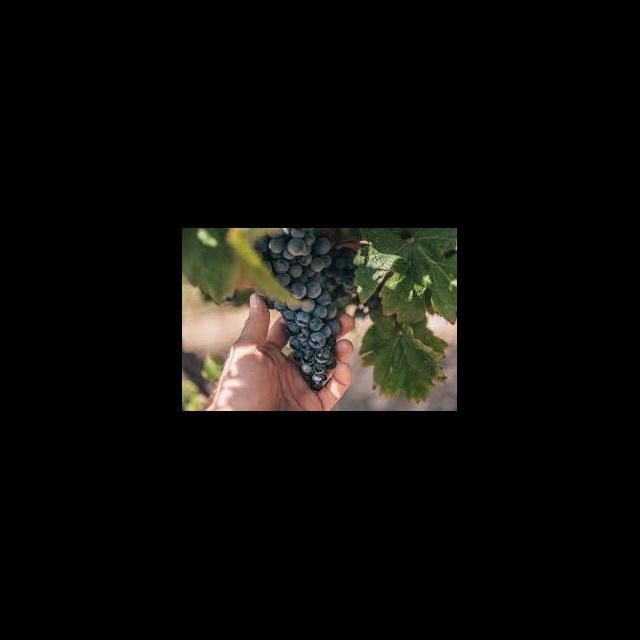grape: (252, 228, 362, 392)
